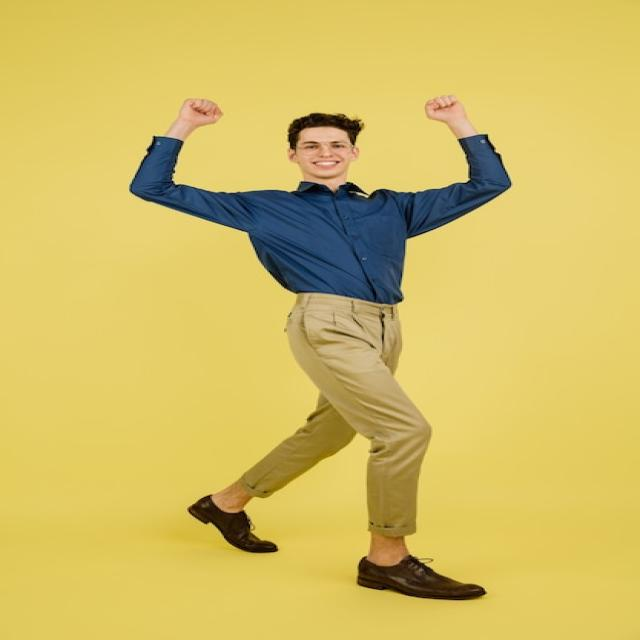Person: (131, 95, 512, 601)
